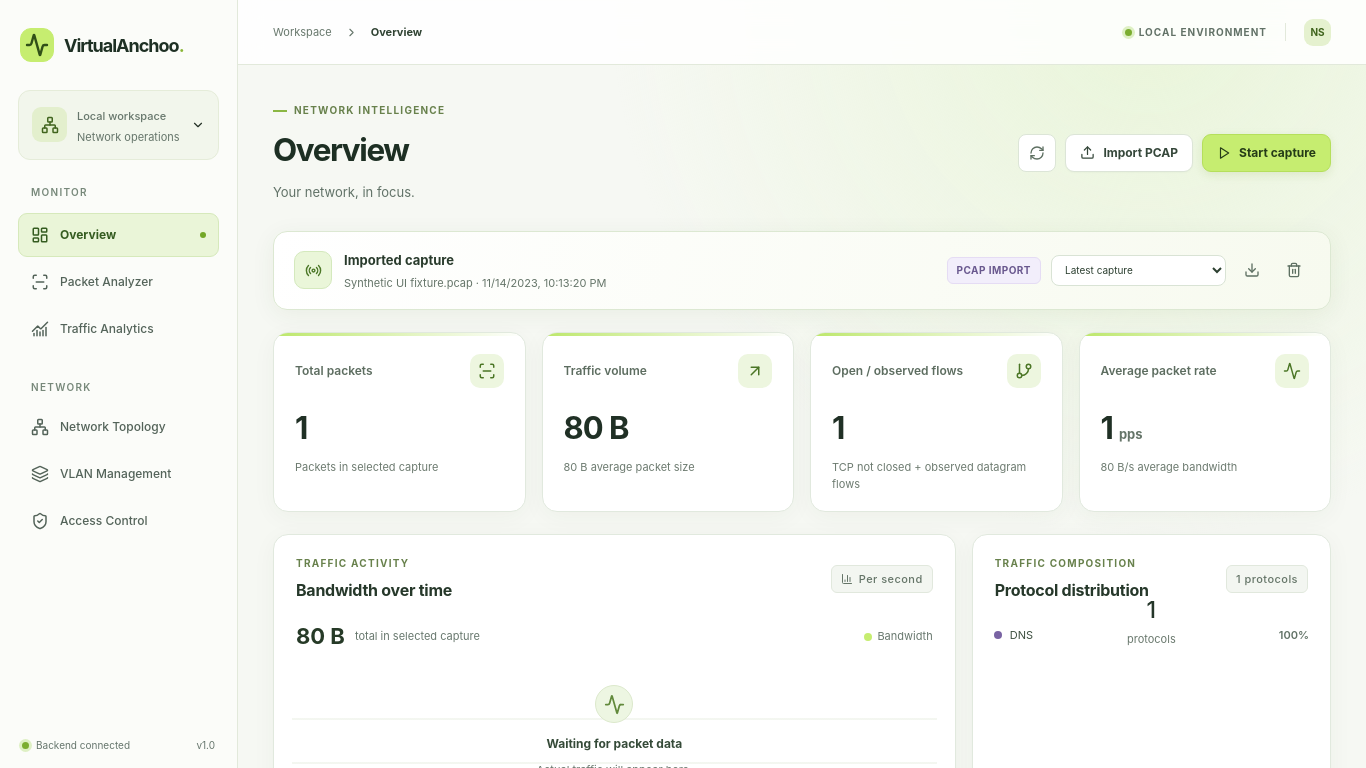
Test: dashboard API contracts › shows the six pages and labels offline network state
The width and height of the screenshot is (1366, 768).
Expected: the text "Backend connected" is shown, [36,738,130,753]
Click the button "Traffic Analytics": (118, 328) [18,306,219,350]
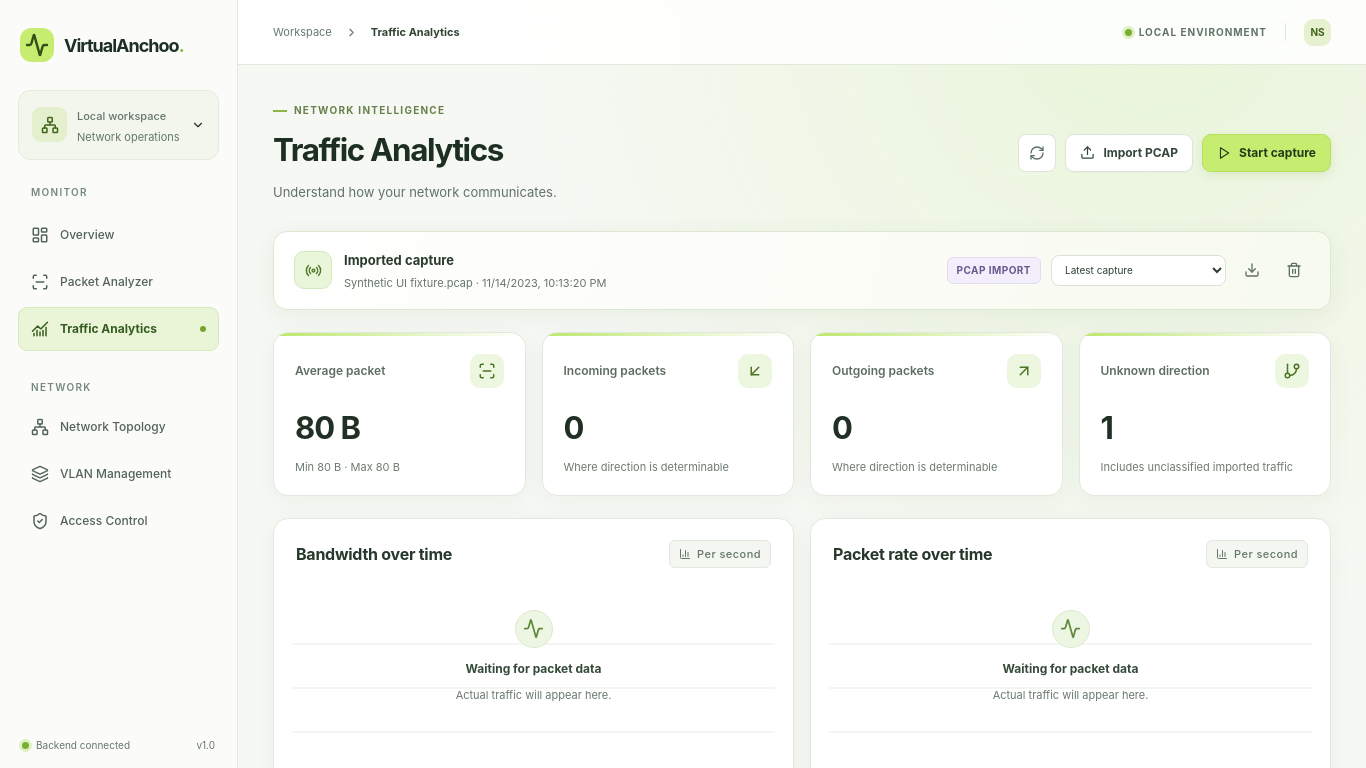
Result: the heading "Traffic Analytics" is shown at [273,131,503,169]
Click the button "Network Topology": (118, 426) [18,404,219,448]
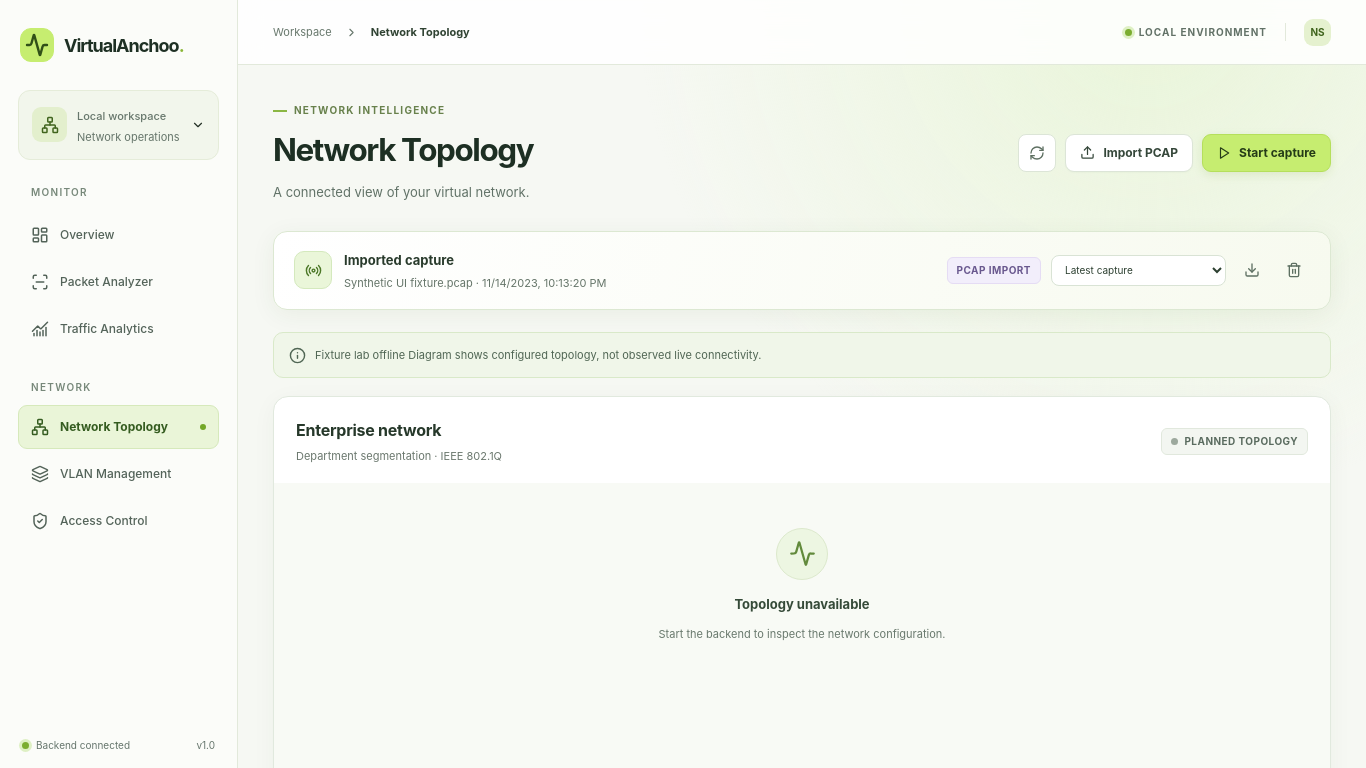
Result: the heading "Network Topology" is shown at [273,127,533,174]
Click the button "VLAN Management": (118, 474) [18,452,219,496]
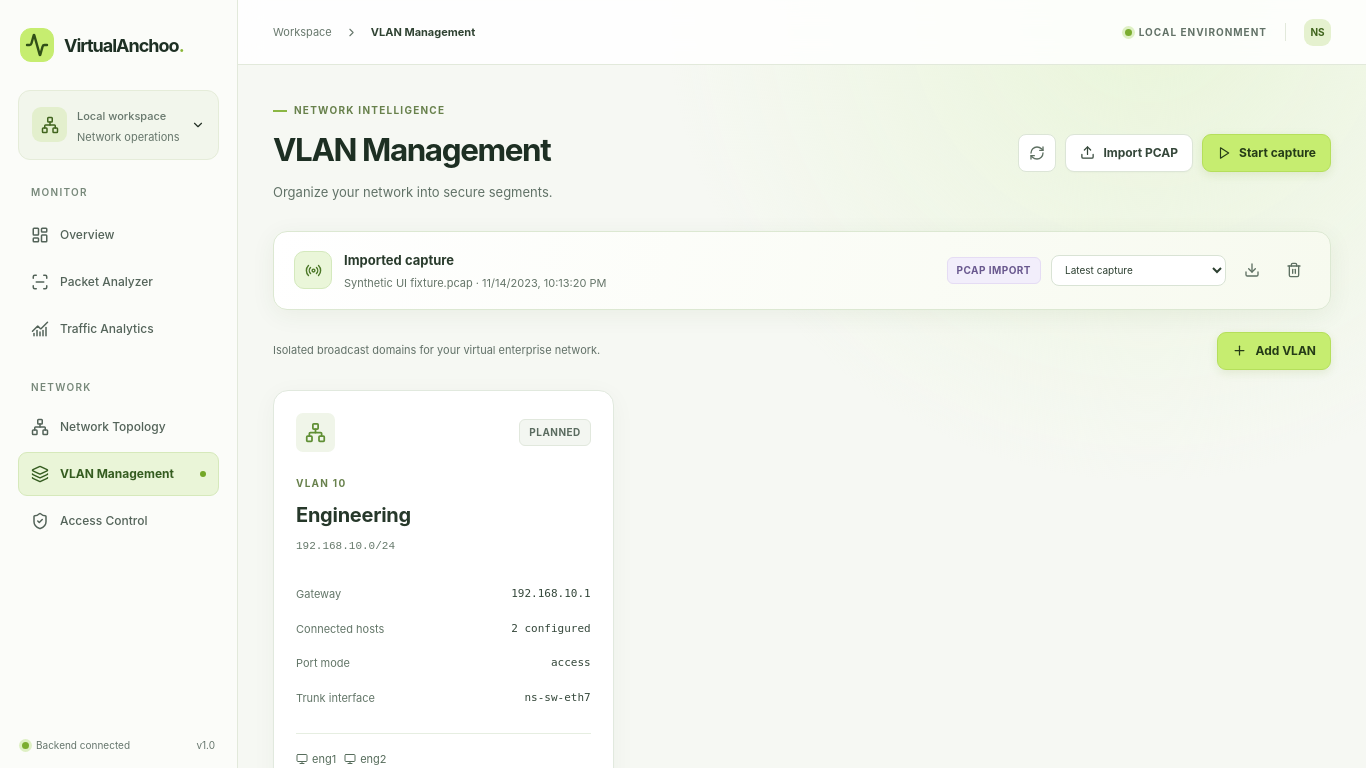
Result: the heading "VLAN Management" is shown at [273,127,552,174]
Click the button "Access Control": (118, 520) [18,498,219,542]
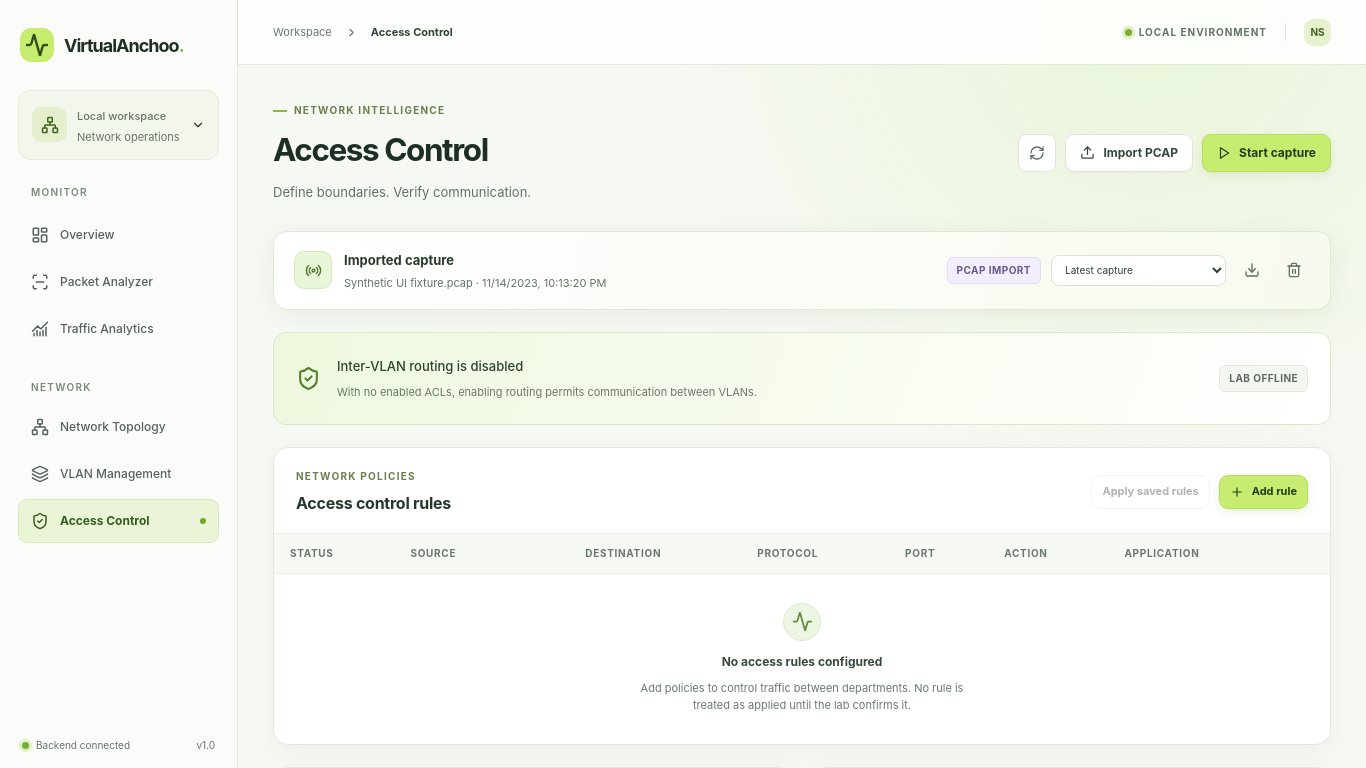
Result: the heading "Access Control" is shown at [273,131,488,169]
Click the button "VLAN Management": (118, 474) [18,452,219,496]
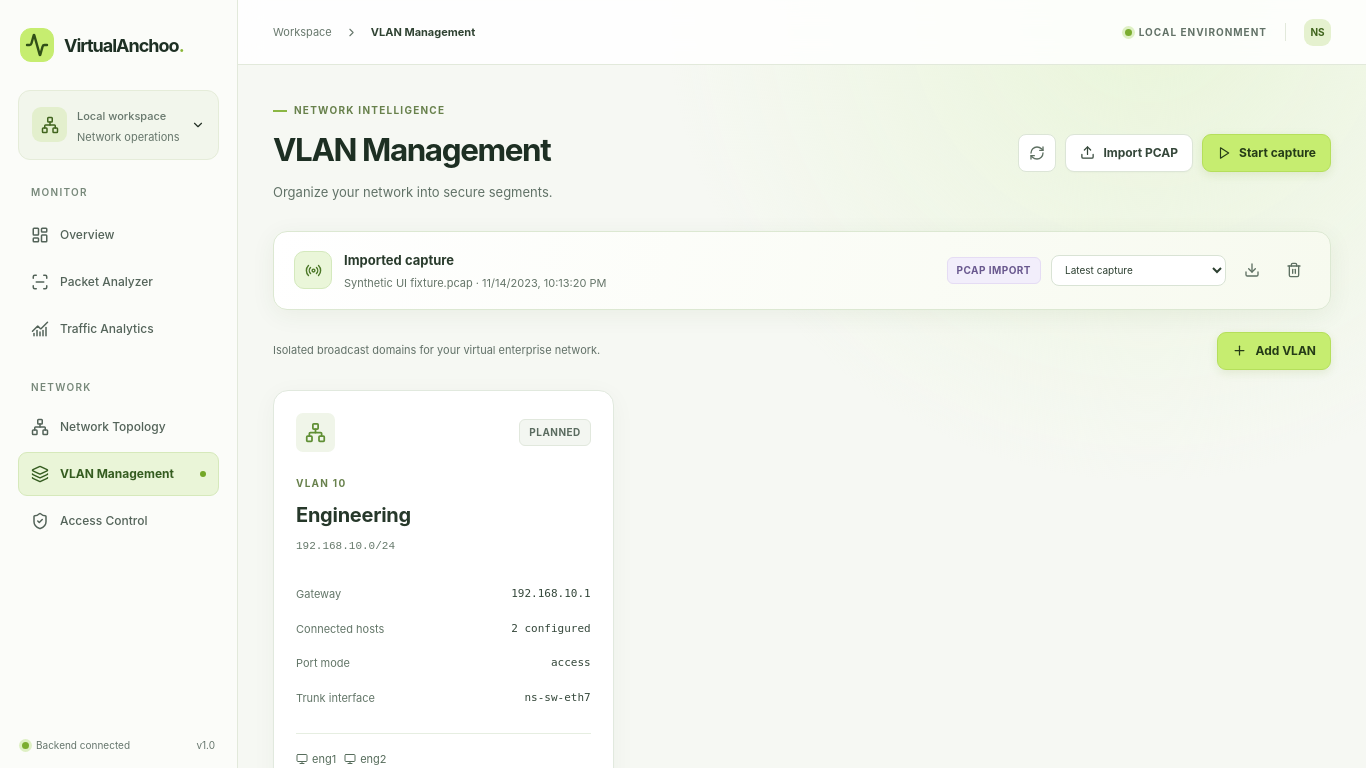
Result: the text "Planned" is shown at [519,419,591,446]
